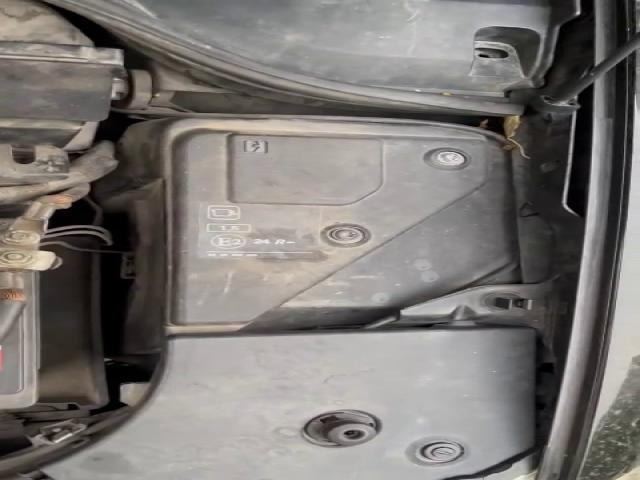accumulator: (1, 218, 60, 411)
fuse_box: (98, 116, 538, 359)
